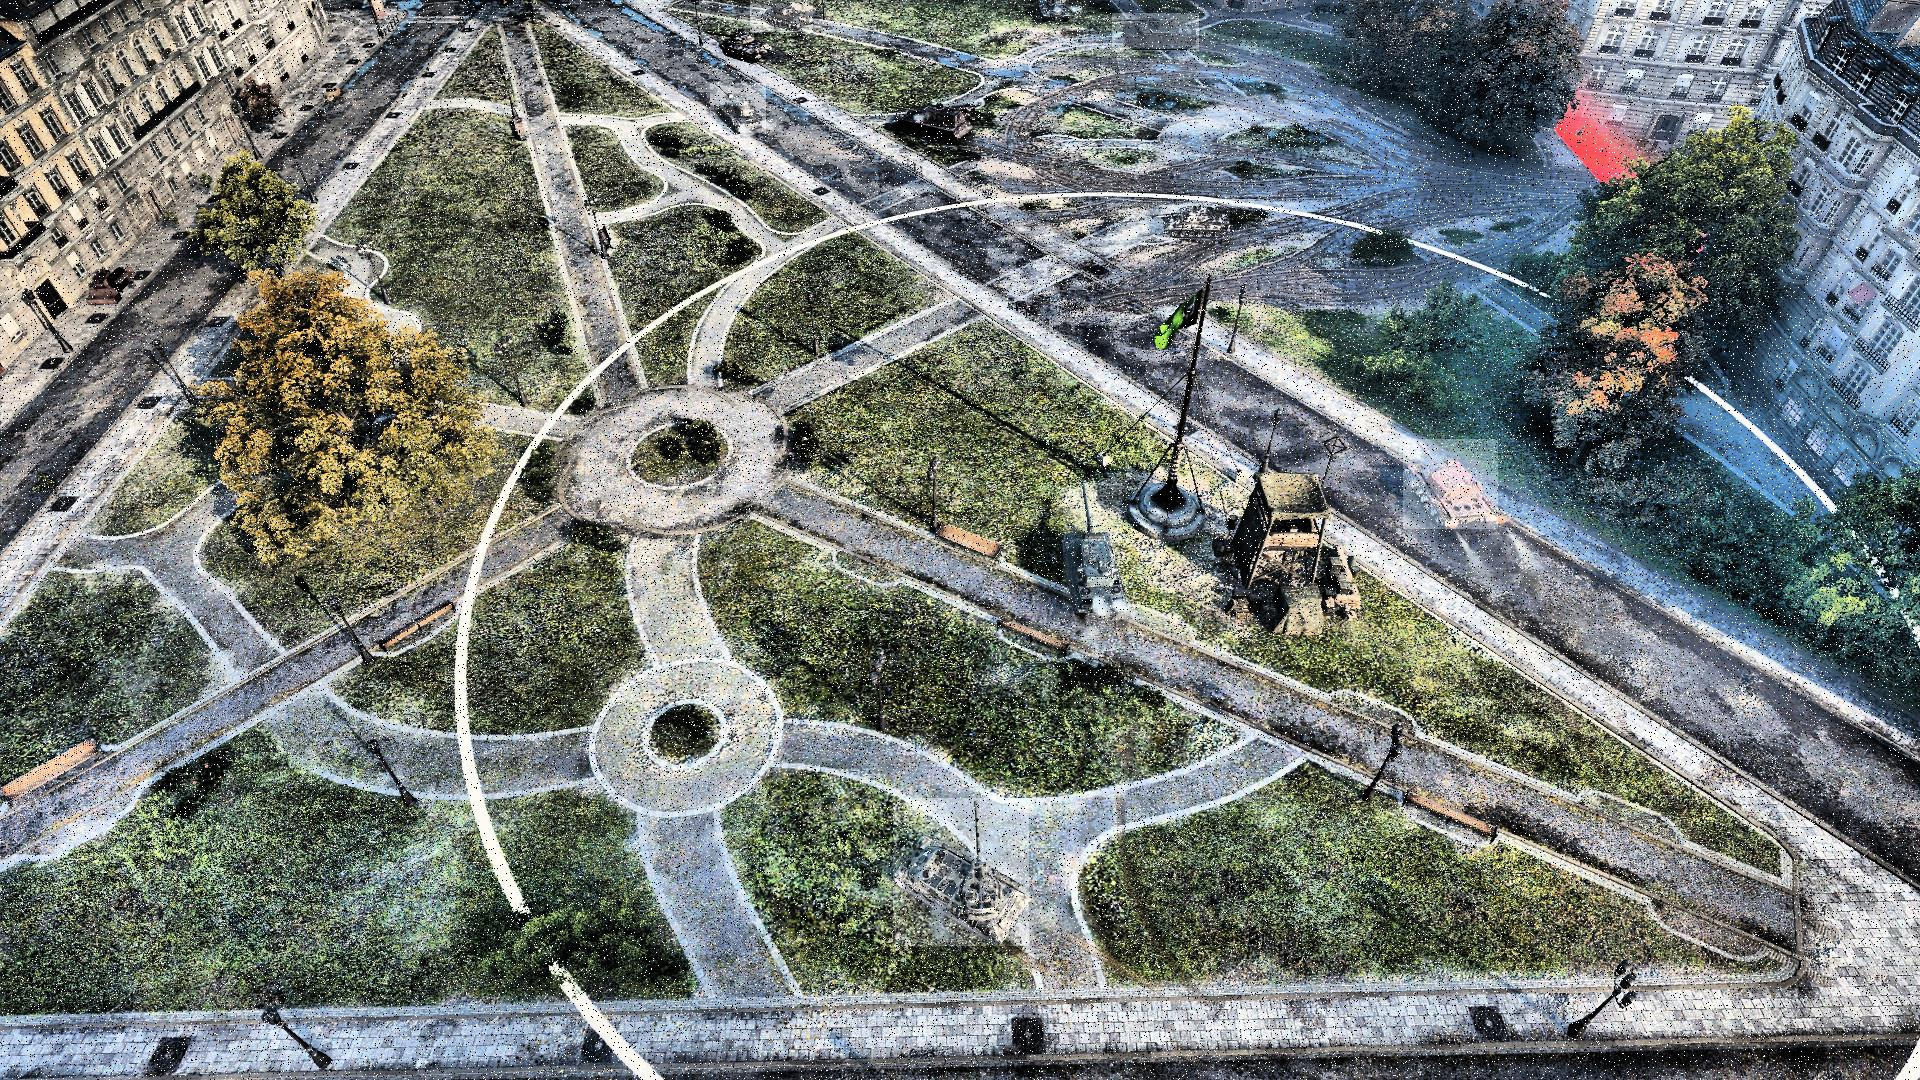military-vehicle: (894, 798, 1030, 945), (1403, 439, 1498, 529), (1063, 484, 1122, 608), (1108, 203, 1230, 239), (886, 102, 975, 146), (1113, 13, 1200, 49), (711, 83, 766, 133), (702, 29, 774, 61), (750, 0, 814, 33)
